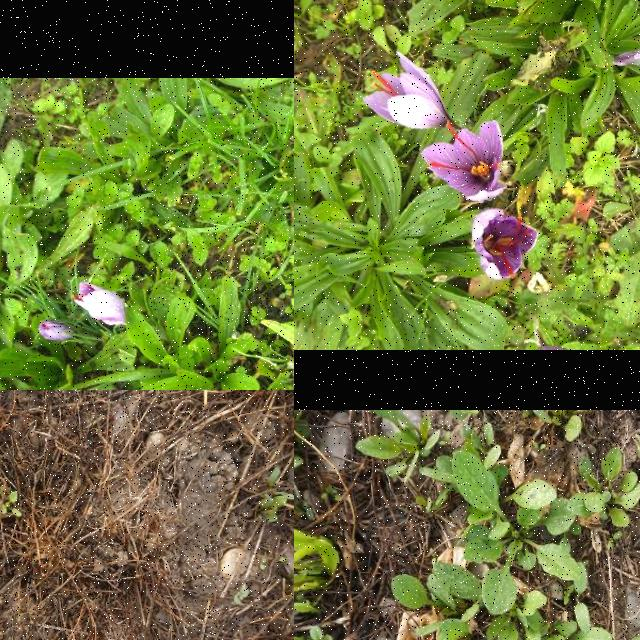flower: (420, 120, 508, 202), (364, 52, 451, 132), (470, 210, 540, 280), (73, 282, 125, 324), (38, 322, 70, 340)
